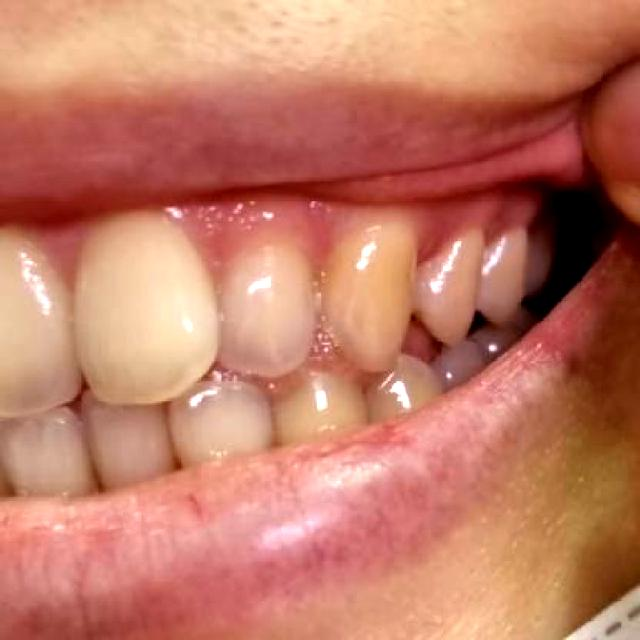Plaque: (185, 217, 260, 286), (28, 224, 83, 295), (297, 219, 350, 287), (416, 228, 464, 263)
